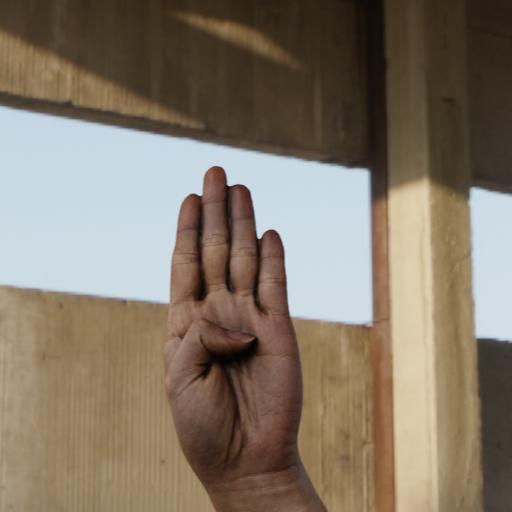B: (155, 158, 312, 482)
